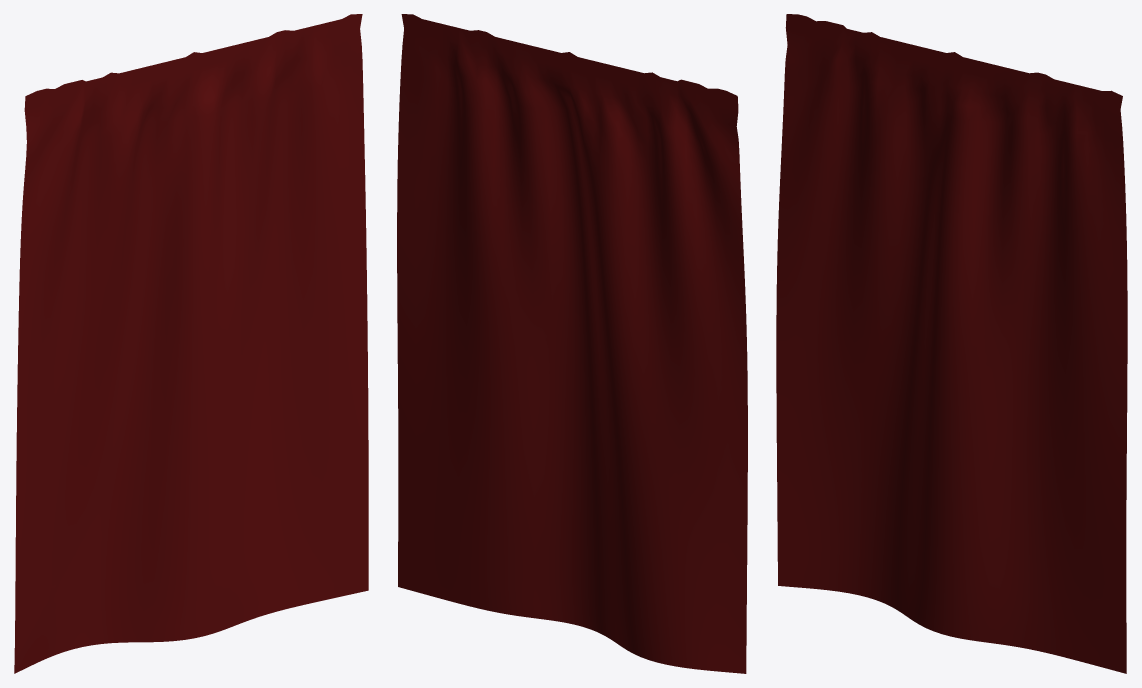
File: MSH_Bandera_v1.FBX
3 renders of one model, left to right at view 1: azimuth 30°, elevation 25°; view 2: azimuth 150°, elevation 25°; view 3: azimuth 330°, elevation 25°, orthographic.
Parts seen in each view (by area): view 1: G_Bandera; view 2: G_Bandera; view 3: G_Bandera.
Boxes of the visible parts, left/top/right/bottom form: G_Bandera: left=14, top=14, right=368, bottom=673; G_Bandera: left=397, top=14, right=747, bottom=673; G_Bandera: left=776, top=14, right=1127, bottom=673.
Size of the model in its own units: 80.58 by 7.73 by 127.
